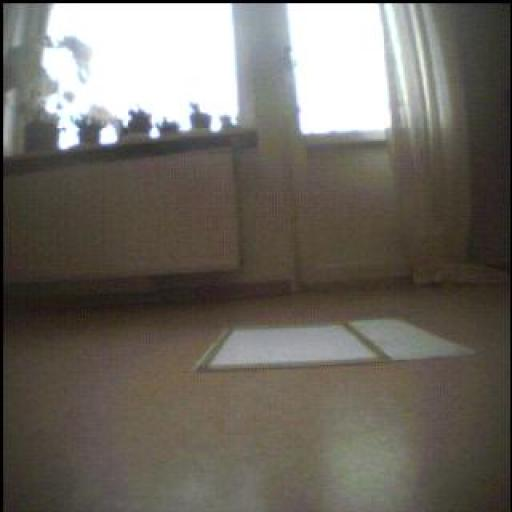Pad: (188, 313, 476, 370)
